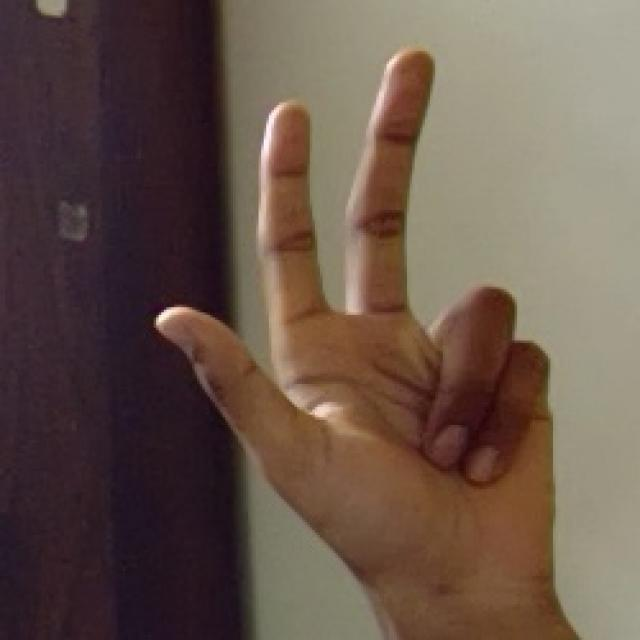Numeric-3: (155, 42, 557, 599)
